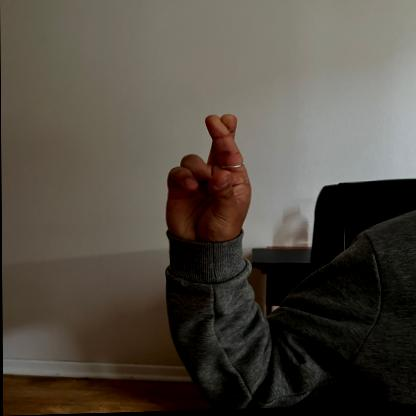R: (161, 109, 254, 247)
